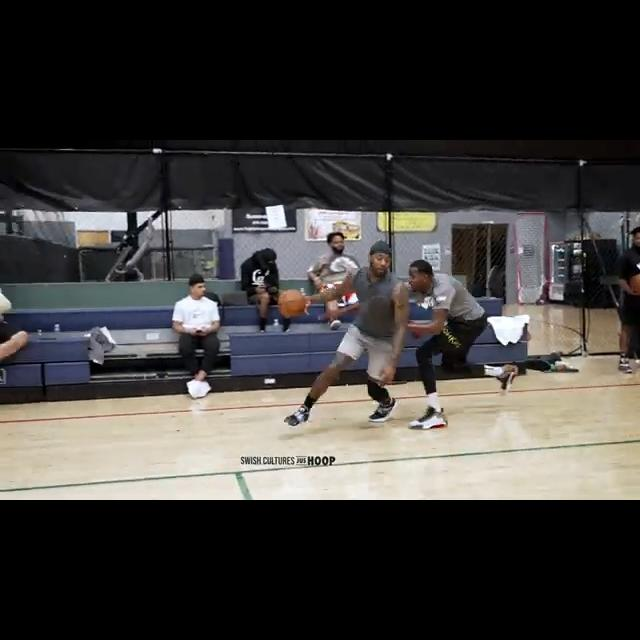basketball: (277, 287, 307, 319), (628, 271, 640, 297)
person: (408, 261, 520, 431), (171, 269, 221, 400), (307, 229, 365, 332), (239, 242, 298, 334), (614, 224, 640, 373)
